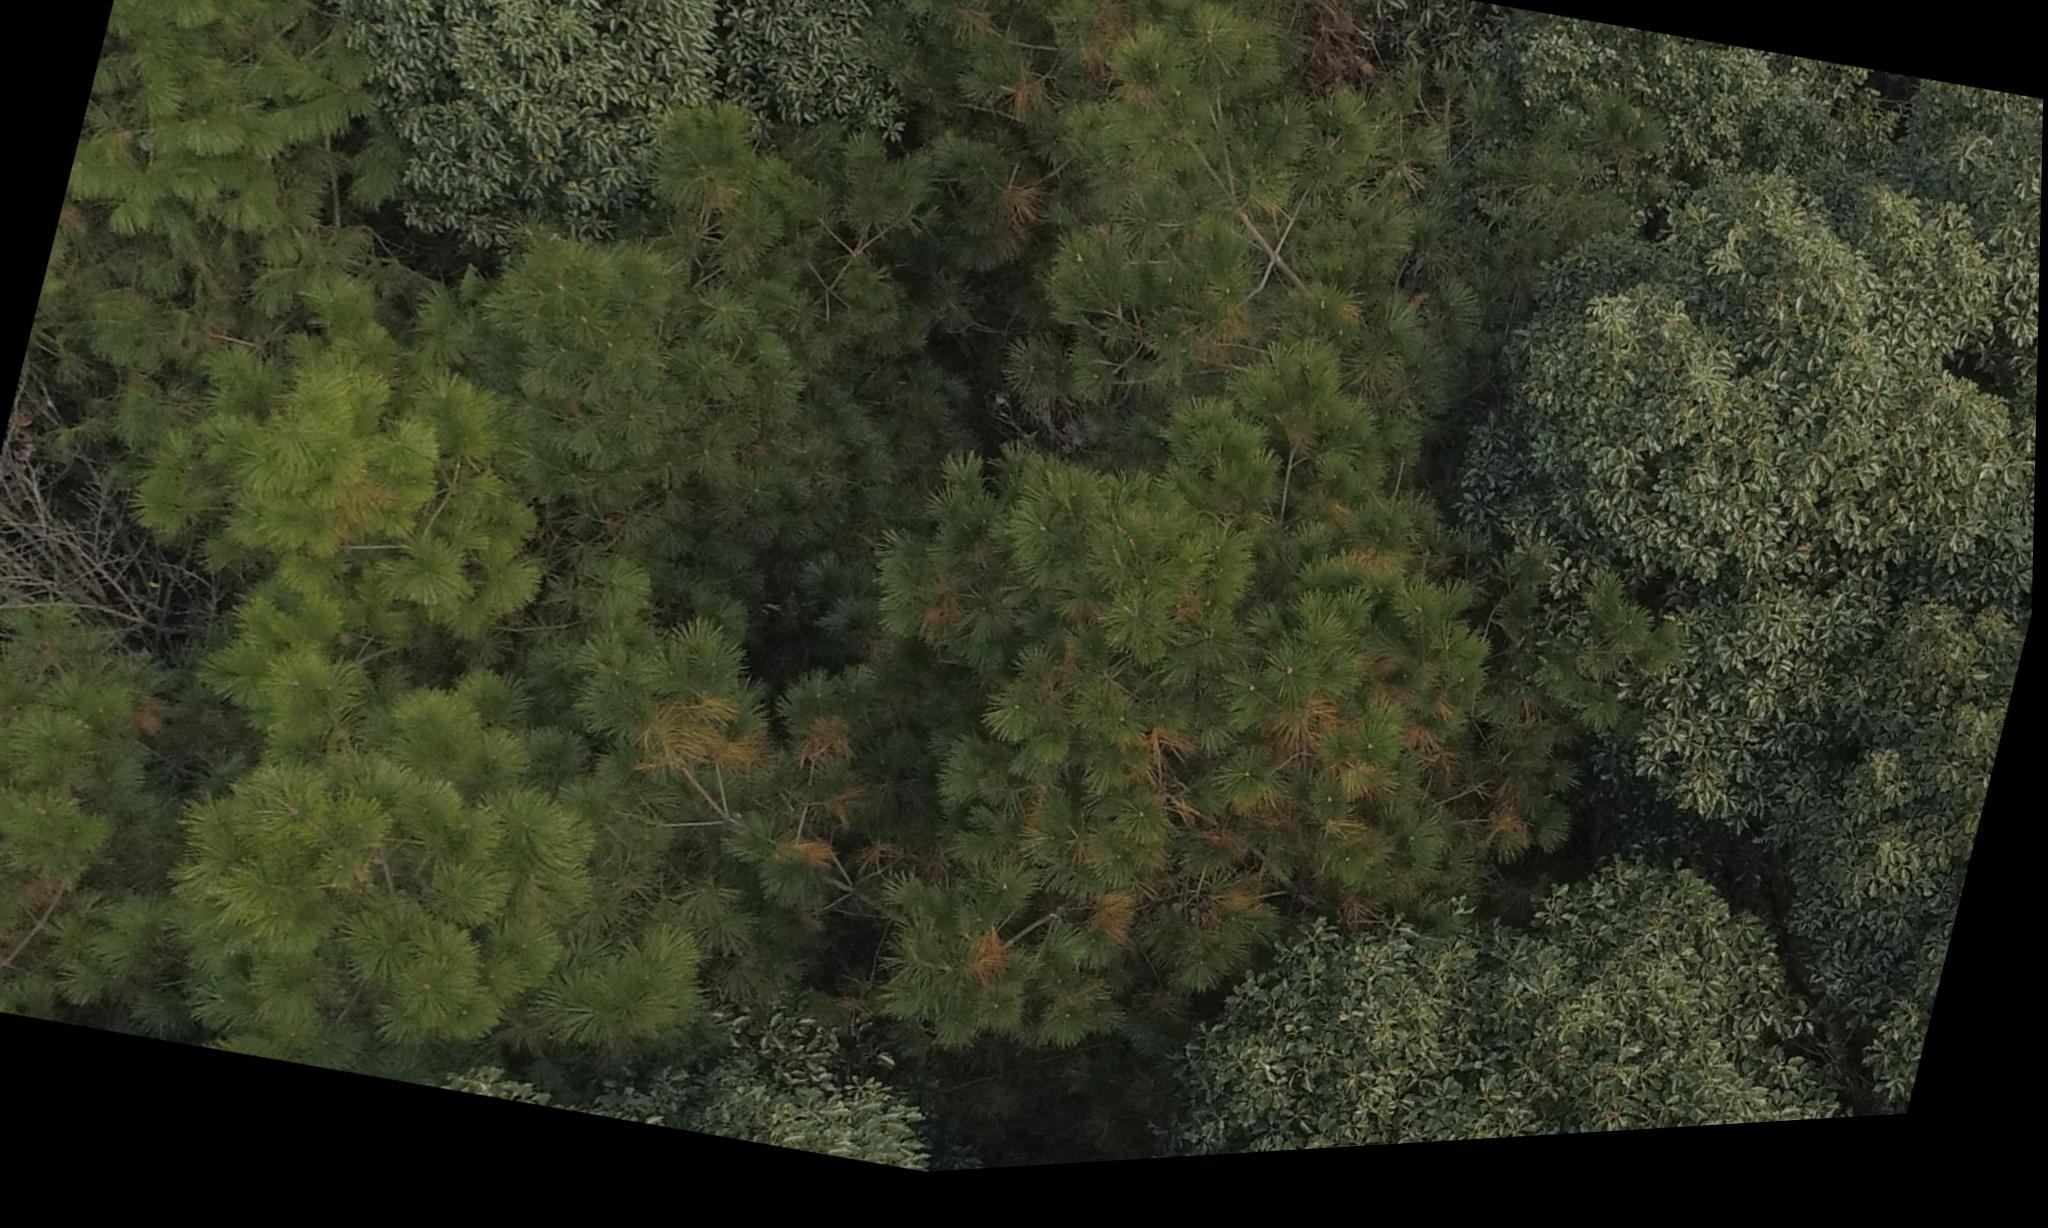light: (629, 319, 1569, 1159)
